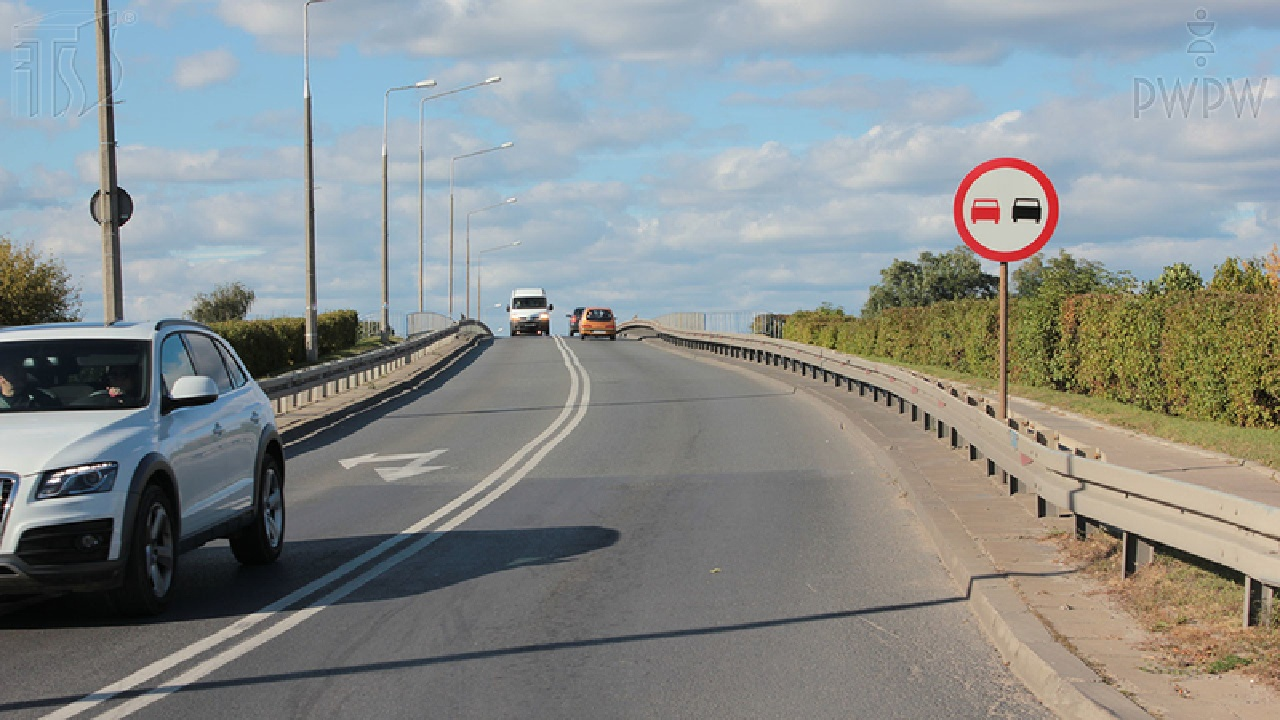B25: (954, 158, 1060, 262)
